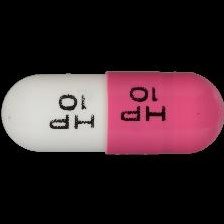42254-237: (0, 0, 224, 224)
